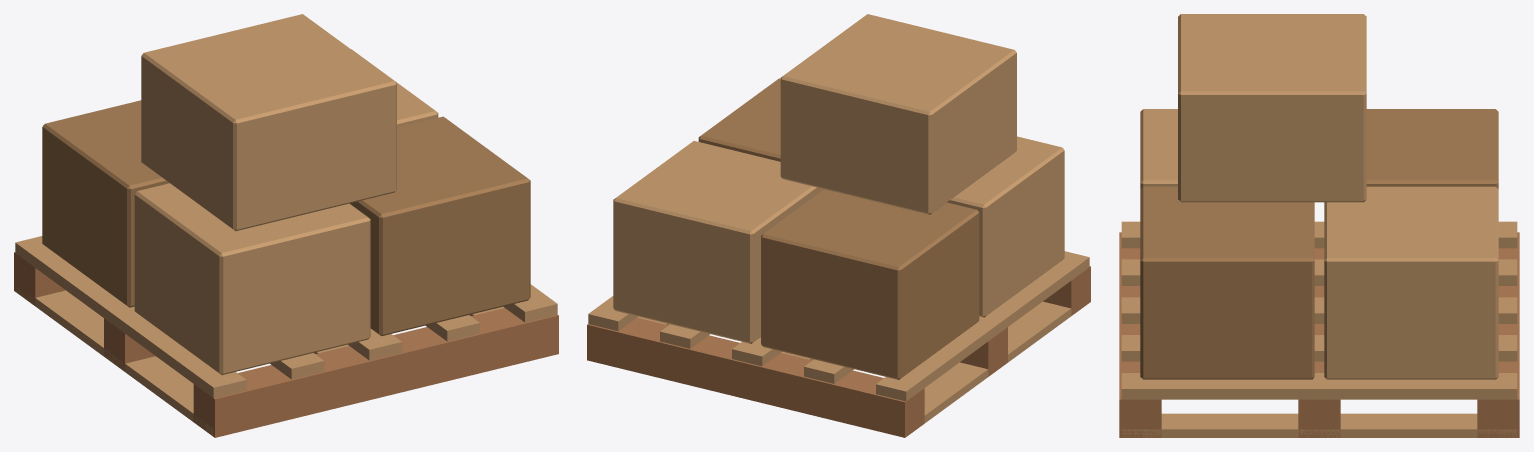
Rendered from pallet.glb.
3 renders of one model, left to right at view 1: azimuth 30°, elevation 25°; view 2: azimuth 150°, elevation 25°; view 3: azimuth 270°, elevation 25°, orthographic. The views are drawn at different scales.
Visible parts, largest first — view 1: pallet; view 2: pallet; view 3: pallet.
Part boxes in pixels (x1=…): pallet: x1=14, y1=14, x2=558, y2=437; pallet: x1=587, y1=14, x2=1090, y2=437; pallet: x1=1119, y1=14, x2=1519, y2=437.
Size of the model in its own units: 0.84 by 0.66 by 0.85.
